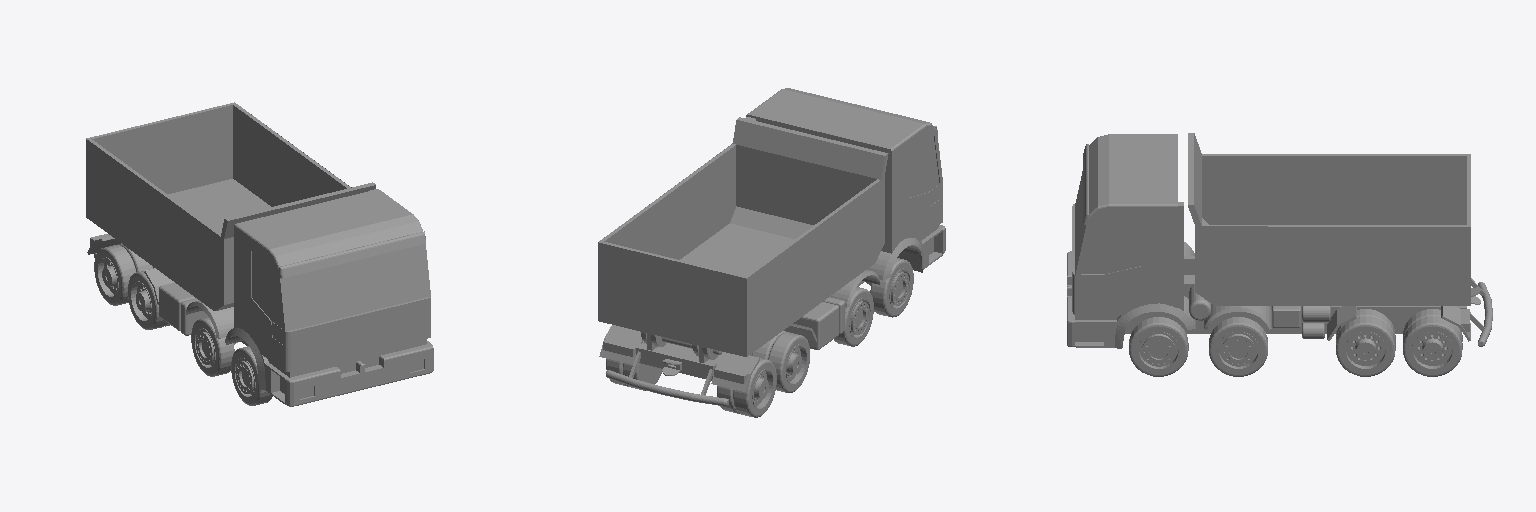
File: truck.obj
The picture shows the model from 3 angles: view 1: azimuth 30°, elevation 25°; view 2: azimuth 150°, elevation 25°; view 3: azimuth 270°, elevation 25°; orthographic projection.
Visible parts, largest first — view 1: frame:tipper, frame:cab, window:cab, frame:bumper, nWheel:backRight.001, sWheel:frontRight.001, frame:body, frame:misc, sWheel:frontRight, nWheel:backRight; view 2: frame:tipper, frame:cab, frame:body, nWheel:backRight, nWheel:backRight.001, frame:bumper, sWheel:frontRight, frame:misc, window:cab, sWheel:frontRight.001, nWheel:backLeft.001; view 3: frame:tipper, frame:cab, frame:body, window:cab, nWheel:backLeft, nWheel:backLeft.001, frame:bumper, sWheel:frontLeft, sWheel:frontLeft.001, frame:misc.
Boxes of the visible parts, x1=… form: frame:tipper: x1=86, y1=102, x2=375, y2=310; frame:cab: x1=234, y1=189, x2=430, y2=371; window:cab: x1=252, y1=244, x2=429, y2=330; frame:bumper: x1=225, y1=328, x2=433, y2=406; nWheel:backRight.001: x1=94, y1=243, x2=152, y2=305; sWheel:frontRight.001: x1=191, y1=317, x2=234, y2=376; frame:body: x1=87, y1=234, x2=248, y2=345; frame:misc: x1=159, y1=283, x2=207, y2=335; sWheel:frontRight: x1=231, y1=346, x2=272, y2=405; nWheel:backRight: x1=128, y1=268, x2=169, y2=329; frame:tipper: x1=598, y1=117, x2=888, y2=359; frame:cab: x1=745, y1=88, x2=942, y2=253; frame:body: x1=599, y1=270, x2=879, y2=405; nWheel:backRight: x1=752, y1=331, x2=809, y2=392; nWheel:backRight.001: x1=717, y1=358, x2=776, y2=417; frame:bumper: x1=867, y1=225, x2=945, y2=280; sWheel:frontRight: x1=870, y1=258, x2=913, y2=317; frame:misc: x1=793, y1=297, x2=844, y2=349; window:cab: x1=909, y1=134, x2=939, y2=197; sWheel:frontRight.001: x1=834, y1=287, x2=873, y2=346; nWheel:backLeft.001: x1=606, y1=341, x2=662, y2=390; frame:tipper: x1=1188, y1=133, x2=1470, y2=305; frame:cab: x1=1072, y1=134, x2=1183, y2=314; frame:body: x1=1125, y1=256, x2=1492, y2=346; window:cab: x1=1075, y1=172, x2=1143, y2=273; nWheel:backLeft: x1=1336, y1=309, x2=1395, y2=376; nWheel:backLeft.001: x1=1403, y1=309, x2=1462, y2=376; frame:bumper: x1=1067, y1=242, x2=1195, y2=348; sWheel:frontLeft: x1=1129, y1=317, x2=1188, y2=376; sWheel:frontLeft.001: x1=1209, y1=317, x2=1267, y2=376; frame:misc: x1=1189, y1=285, x2=1330, y2=338.
Size of the model in its own units: 1.86 by 2.03 by 4.52.